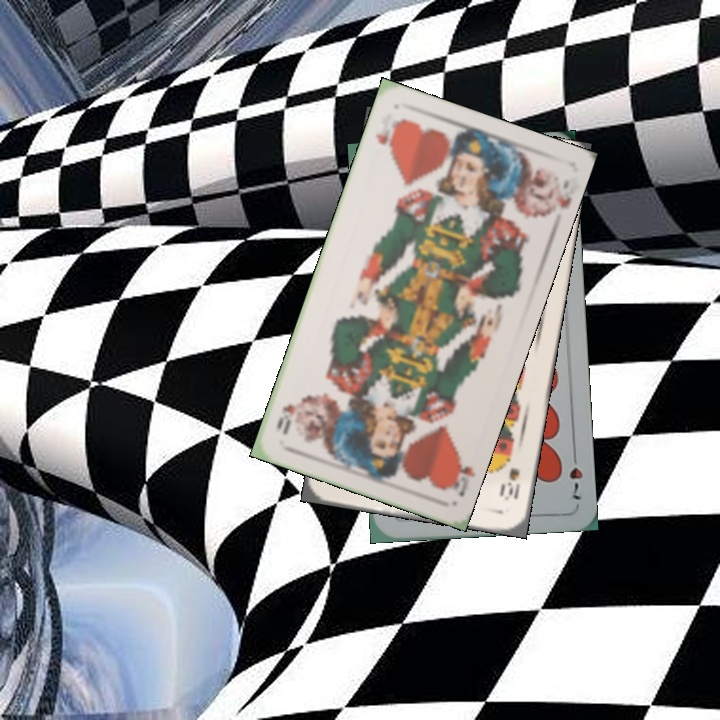H7: (566, 446, 586, 503)
HO: (442, 446, 477, 500), (371, 108, 404, 158)
S10: (497, 463, 523, 503)
